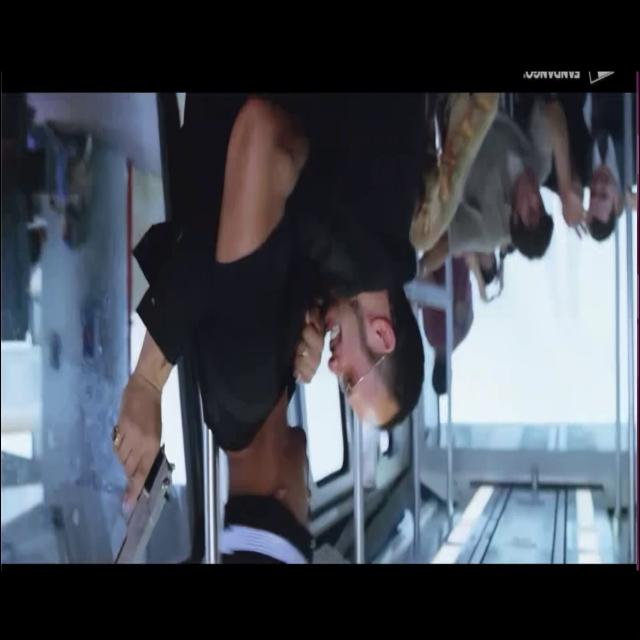weapons: (89, 408, 181, 566)
